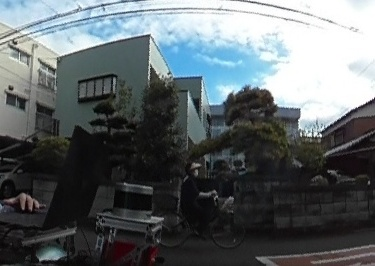person: (181, 156, 210, 244)
